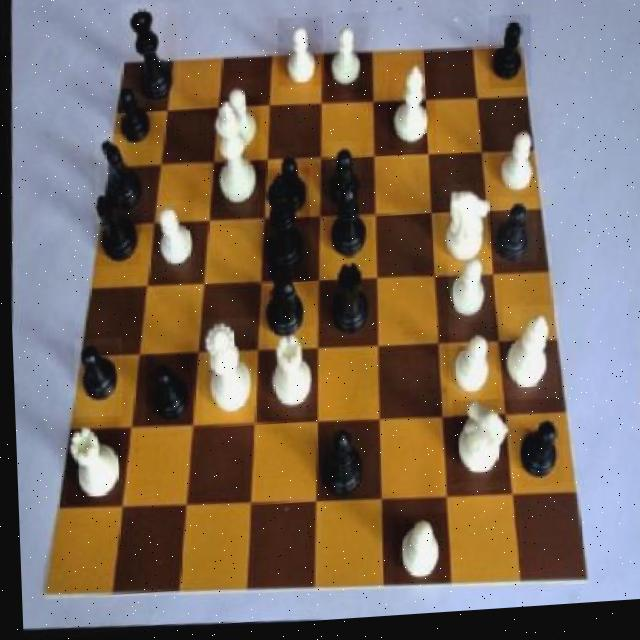bishop: (321, 181, 374, 273), (314, 426, 368, 506)
black-bishop: (255, 170, 311, 287)
black-king: (90, 133, 149, 226), (256, 254, 308, 350)
black-knight: (69, 339, 122, 421), (107, 87, 165, 152), (269, 149, 316, 228), (513, 420, 563, 494), (141, 357, 191, 429), (486, 20, 532, 96), (487, 202, 536, 272), (322, 144, 363, 215)
black-pawn: (117, 3, 183, 112)
black-queen: (321, 261, 380, 354), (90, 184, 141, 270)
black-rook: (496, 310, 558, 409), (384, 65, 438, 158)
white-bishop: (205, 98, 261, 210)
white-king: (446, 405, 506, 492), (436, 189, 491, 270)
white-knight: (386, 516, 445, 594), (145, 201, 201, 281), (444, 253, 493, 343), (443, 336, 495, 415), (323, 16, 370, 100), (492, 133, 541, 207), (221, 80, 266, 160), (275, 19, 323, 91)
white-pawn: (196, 320, 259, 426)
white-queen: (60, 421, 119, 508), (263, 329, 315, 424)
